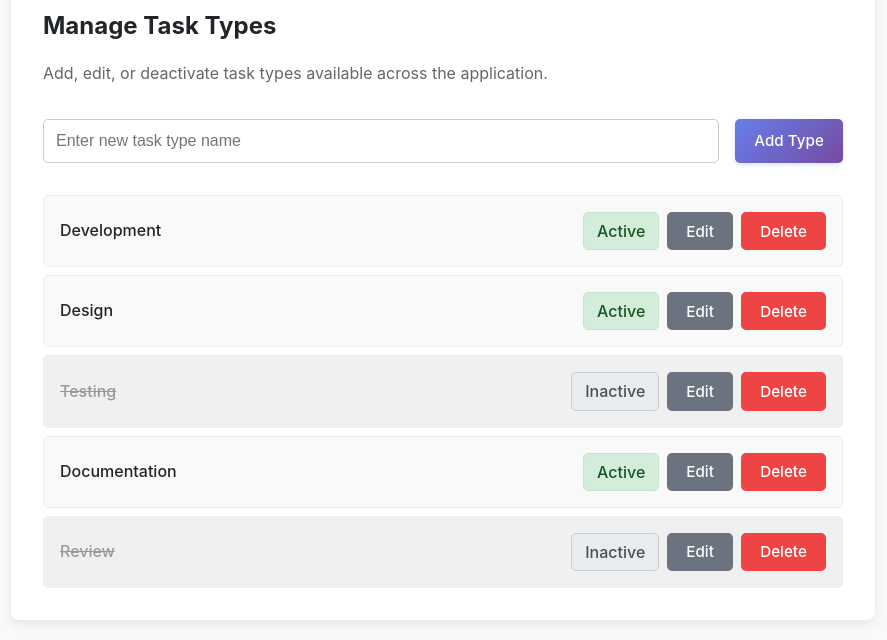
Test: TaskTypeSettings Component › Task Type Editing › enters edit mode when task type name is double-clicked
The image size is (887, 640).
Double-click the text "Design" at (87,311), box [60,298,113,324]
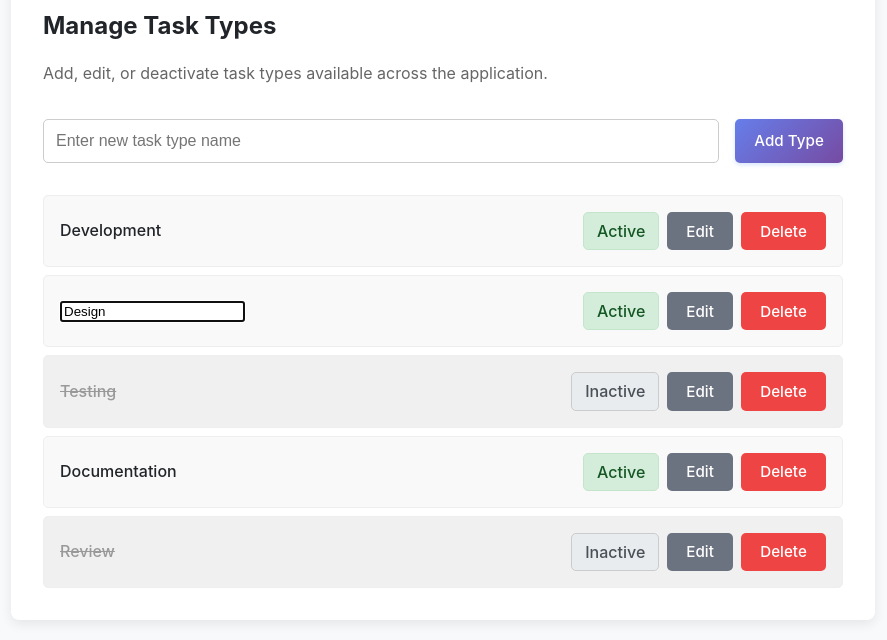
Now the field showing "Design" holds "Design", box [60,301,245,322]
